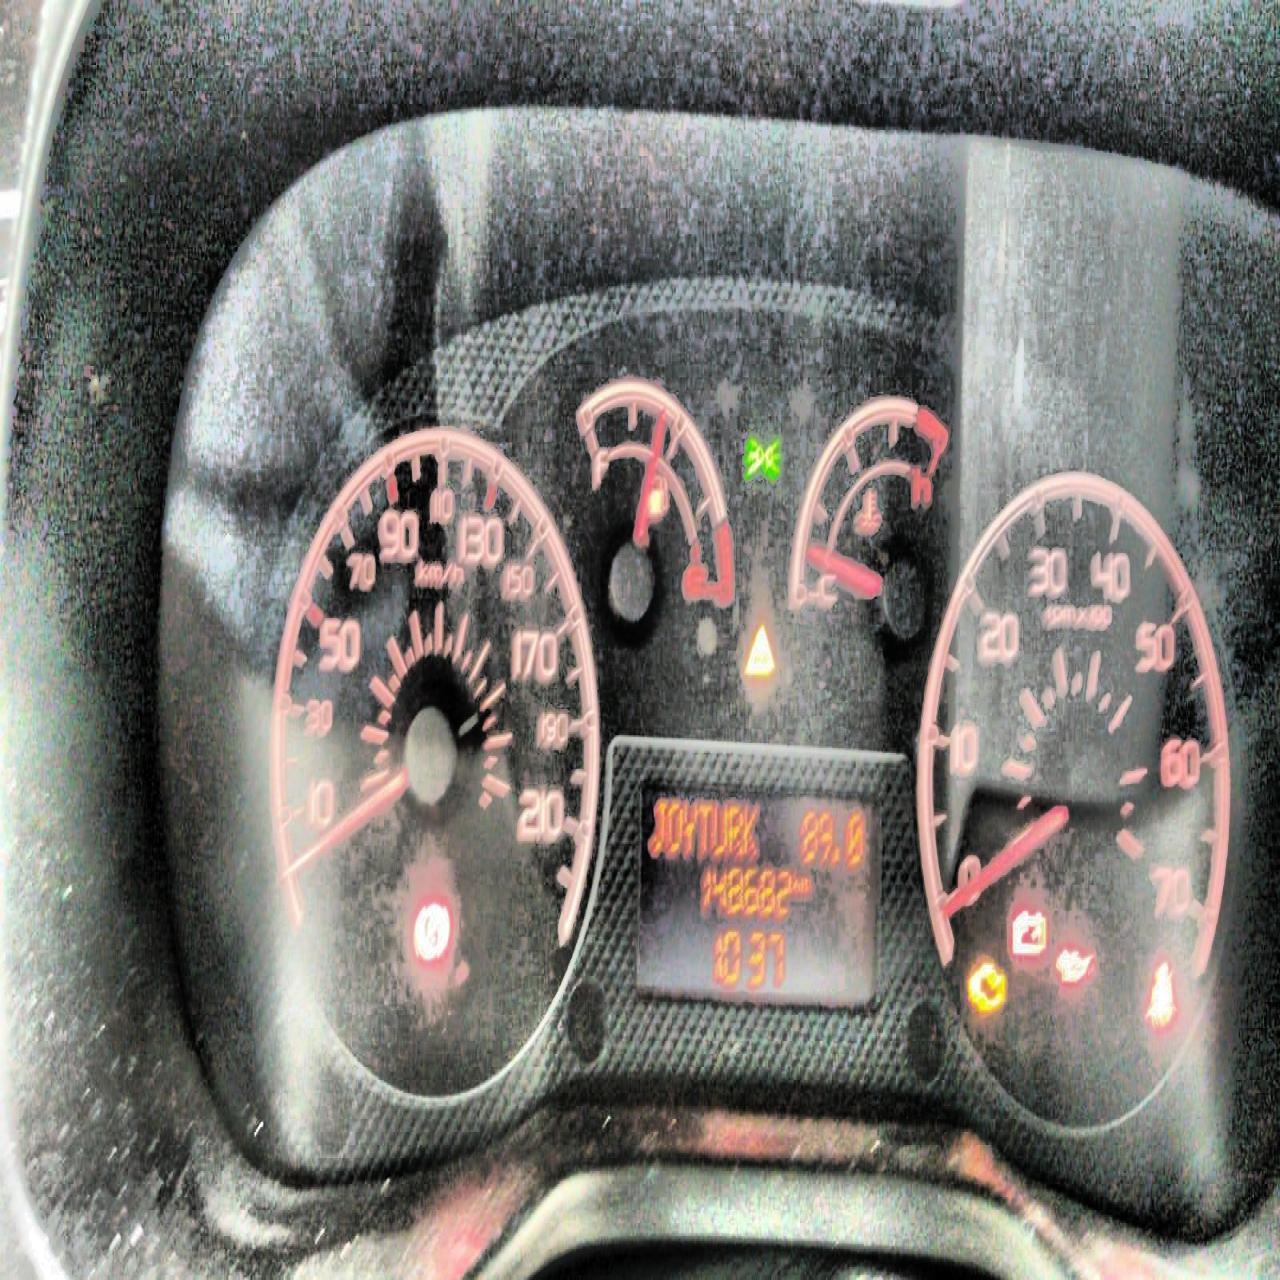-: (829, 843, 840, 869)
0: (843, 810, 864, 870), (722, 925, 742, 983)
1: (712, 931, 721, 983), (701, 866, 710, 910)
2: (775, 869, 790, 920)
3: (745, 928, 767, 990)
4: (709, 865, 727, 911)
6: (743, 864, 760, 914)
7: (767, 928, 784, 987)
8: (797, 806, 817, 864), (724, 864, 742, 914), (760, 867, 775, 915)
9: (817, 806, 835, 865)
X: (740, 802, 758, 860), (708, 802, 727, 860), (663, 797, 682, 856), (648, 796, 666, 856), (724, 803, 742, 859), (681, 798, 697, 857), (697, 801, 713, 859), (801, 872, 813, 897), (791, 866, 799, 897)
odometer: (631, 767, 890, 1016)
